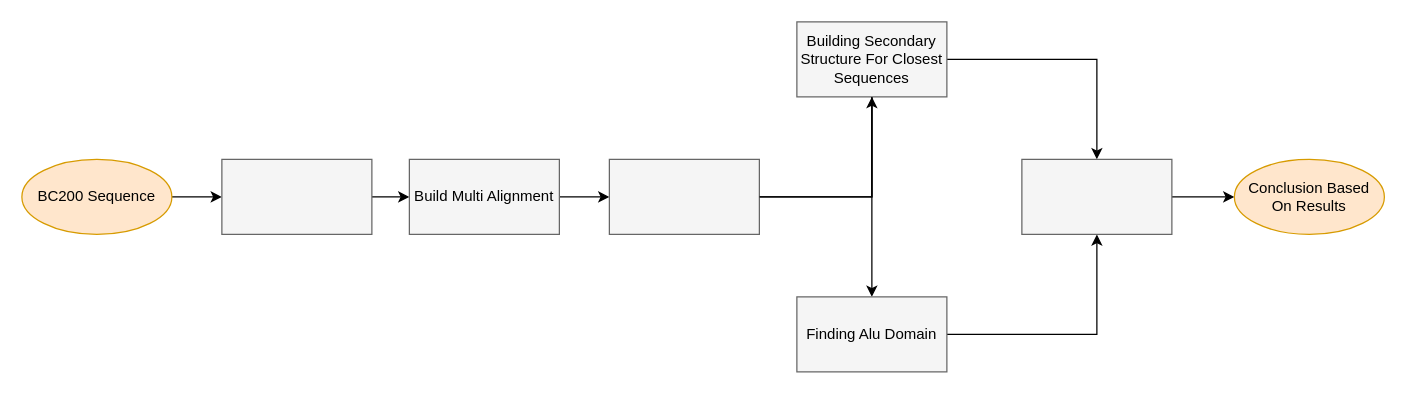
This 1406x394 diagram has some shape labels left out. Each missing label, with the centre of its shape:
Blast (Finding Sequences): point (296, 196)
Build Tree Using Alignment: point (683, 196)
Finding Conserved Parts: point (1096, 196)
